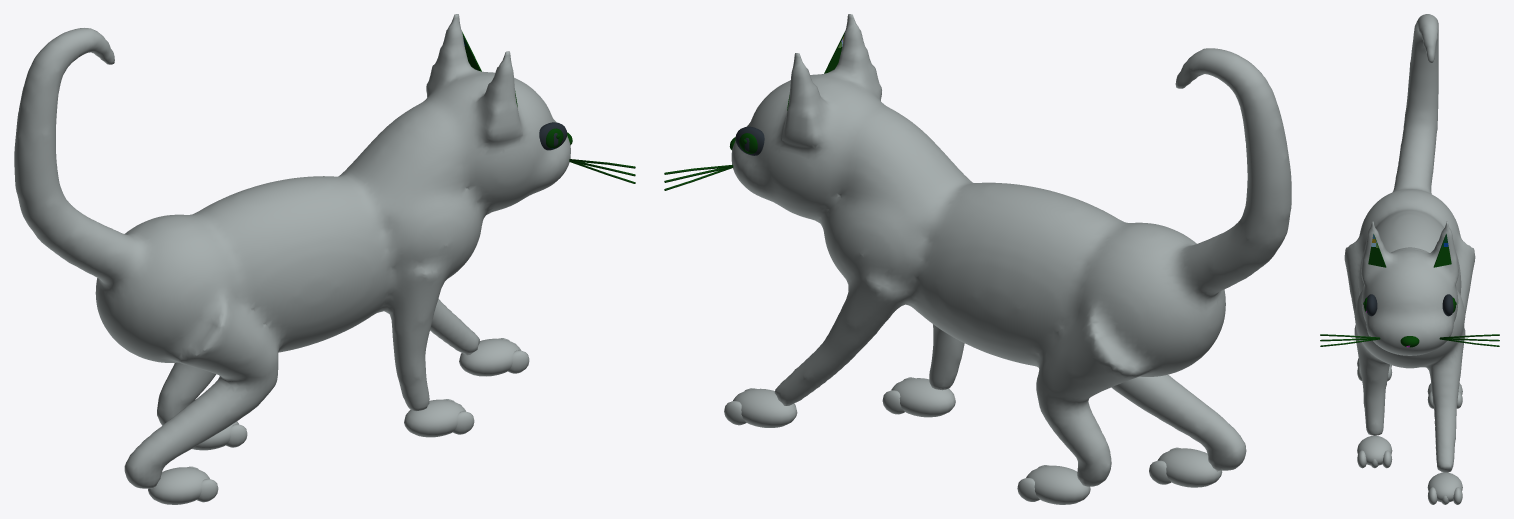
The model's file is GoldenCat.prefab.glb.
3 renders of one model, left to right at view 1: azimuth 30°, elevation 25°; view 2: azimuth 150°, elevation 25°; view 3: azimuth 270°, elevation 25°, orthographic. The views are drawn at different scales.
Visible parts, largest first — view 1: Continuous anatomical skin, Rounded paw, Rounded paw.001, Rounded paw.002; view 2: Continuous anatomical skin, Rounded paw.003, Rounded paw, Rounded paw.001, Rounded paw.002; view 3: Continuous anatomical skin, Rounded paw, Rounded paw.002, Pink inner pinna fitted to skin, Pink inner pinna fitted to skin.001.
Part boxes in pixels (bbox=[...]): Continuous anatomical skin: bbox=[14, 14, 570, 488]; Rounded paw: bbox=[404, 399, 465, 437]; Rounded paw.001: bbox=[148, 467, 209, 504]; Rounded paw.002: bbox=[459, 338, 520, 376]; Continuous anatomical skin: bbox=[731, 14, 1291, 486]; Rounded paw.003: bbox=[1026, 465, 1090, 504]; Rounded paw: bbox=[891, 378, 955, 417]; Rounded paw.001: bbox=[1157, 448, 1222, 487]; Rounded paw.002: bbox=[733, 388, 797, 427]; Continuous anatomical skin: bbox=[1344, 14, 1475, 472]; Rounded paw: bbox=[1357, 435, 1392, 465]; Rounded paw.002: bbox=[1427, 472, 1462, 502]; Pink inner pinna fitted to skin: bbox=[1368, 234, 1386, 267]; Pink inner pinna fitted to skin.001: bbox=[1433, 234, 1451, 267].
Bounding box in the file's own units: 0.5364 × 0.43 × 0.2101.
Materials: 5 (5 with a texture image).
